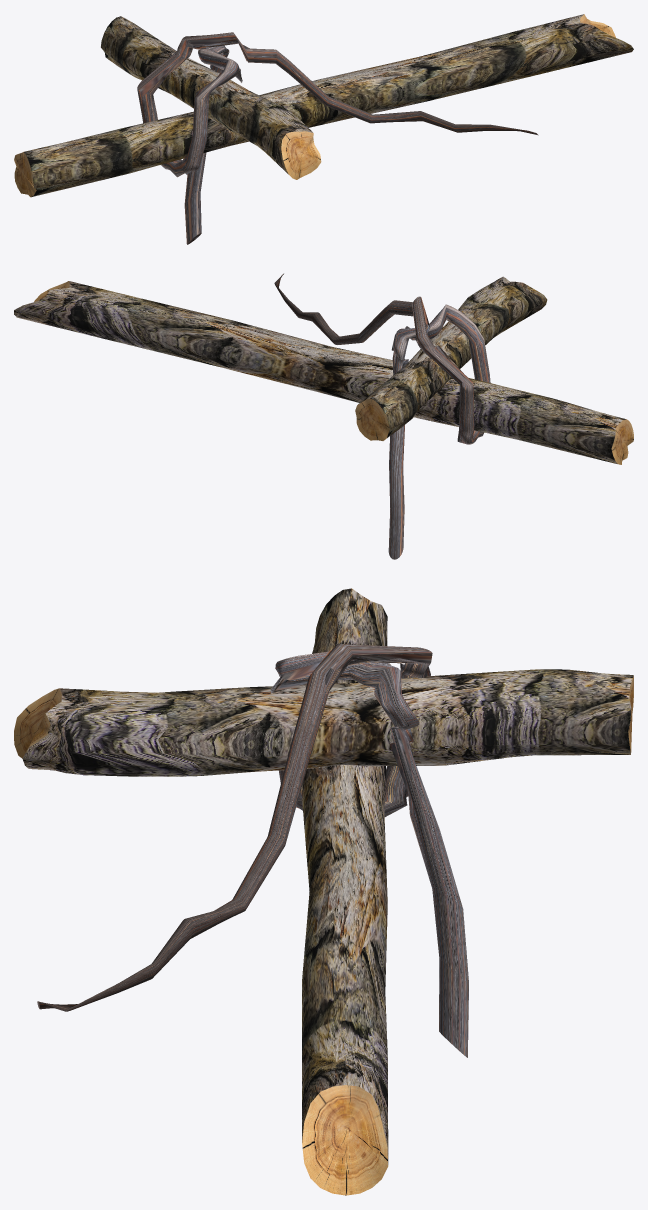
Rendered from kreuz.fbx.
3 renders of one model, top to bottom at view 1: azimuth 30°, elevation 25°; view 2: azimuth 150°, elevation 25°; view 3: azimuth 270°, elevation 25°, orthographic. The views are drawn at different scales.
Parts seen in each view (by area): view 1: pCylinder17, pCylinder18, pCylinder19; view 2: pCylinder17, pCylinder18, pCylinder19; view 3: pCylinder18, pCylinder17, pCylinder19.
Part boxes in pixels (x1,y1,x2,y2): pCylinder17: (14, 14, 633, 197); pCylinder18: (101, 16, 321, 179); pCylinder19: (137, 32, 538, 244); pCylinder17: (14, 281, 633, 464); pCylinder18: (355, 276, 547, 440); pCylinder19: (274, 273, 490, 559); pCylinder18: (14, 669, 633, 776); pCylinder17: (302, 588, 388, 1195); pCylinder19: (37, 644, 468, 1057).
Bounding box in the file's own units: 6.93 × 2.58 × 3.44.
3 materials, 3 textured.
